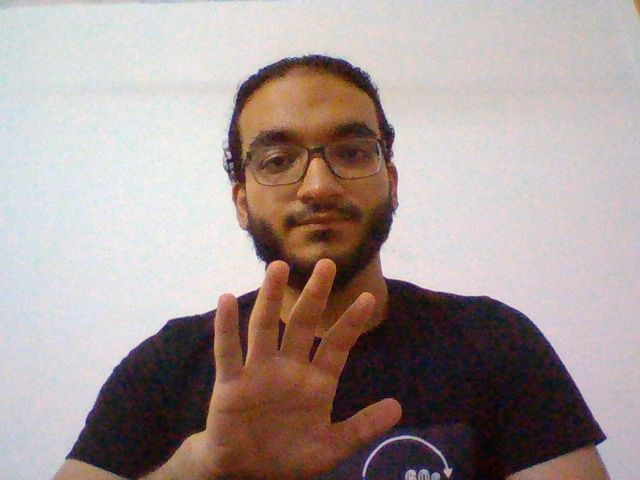Hello: (188, 248, 447, 480)
